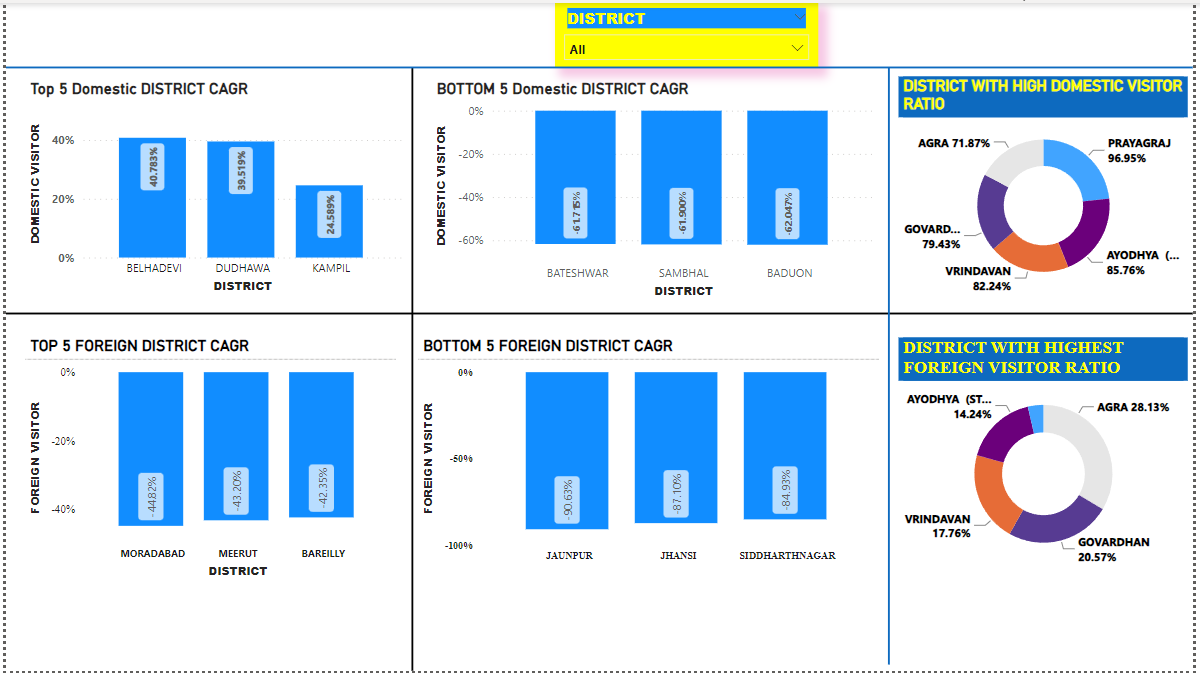

The dashboard page shown, as its layout file describes it:
{"tool":"powerbi","page":{"name":"DISTRICT WISE","canvas":[1280,720],"ordinal":1},"visuals":[{"type":"lineStackedColumnComboChart","title":"Top  5 Domestic DISTRICT CAGR ","fields":{"Category":["UP DOMESTIC TOURISMS.DISTRICT"],"Y":["METRICS.Domestic DISTRICT CAGR"]},"box":[21,82.5,411,236.2],"z":0},{"type":"lineStackedColumnComboChart","title":"TOP 5 FOREIGN DISTRICT CAGR","fields":{"Category":["UP FOREIGN TOURISMS.DISTRICT"],"Y":["METRICS.FOREIGN DISTRICT CAGR"]},"box":[21,359.2,399.6,265.3],"z":1000},{"type":"lineStackedColumnComboChart","title":"BOTTOM  5 Domestic DISTRICT CAGR ","fields":{"Category":["UP DOMESTIC TOURISMS.DISTRICT"],"Y":["METRICS.Domestic DISTRICT CAGR"]},"box":[459.5,82.5,482.2,241.1],"z":2000},{"type":"lineStackedColumnComboChart","title":"BOTTOM 5 FOREIGN DISTRICT CAGR","fields":{"Category":["UP FOREIGN TOURISMS.DISTRICT"],"Y":["METRICS.FOREIGN DISTRICT CAGR"]},"box":[444.9,359.2,496.7,265.3],"z":3000},{"type":"slicer","fields":{"Values":["DISTRICT.DISTRICT"]},"box":[591.8,0,283.9,70.1],"z":4000},{"type":"donutChart","title":"DISTRICT WITH HIGH DOMESTIC VISITOR RATIO ","fields":{"Y":["METRICS.DOMESTIC VISITOR RATIO"],"Category":["UP DOMESTIC TOURISMS.DISTRICT"]},"box":[962.7,79.3,312.3,239.5],"z":5000},{"type":"donutChart","title":"DISTRICT WITH HIGHEST FOREIGN  VISITOR  RATIO","fields":{"Category":["UP DOMESTIC TOURISMS.DISTRICT"],"Y":["METRICS.FOREIGN DISTRICT RATIO"]},"box":[962.7,360.8,312.3,252.4],"z":6000},{"type":"shape","box":[0,323.6,1279.8,22.7],"z":7000},{"type":"shape","box":[941.7,69.6,21,644],"z":8000},{"type":"shape","box":[432,69.6,12.9,650.4],"z":9000},{"type":"shape","box":[0,59.9,1279.8,19.4],"z":10000}]}

Visuals, with their boxes in screenshot pixels (x1, y1, x2, y2), scaled from the page's 1280x720 canvas onto the 1200x673 screenshot:
"Top  5 Domestic DISTRICT CAGR " lineStackedColumnComboChart: 20 77 405 298
"TOP 5 FOREIGN DISTRICT CAGR" lineStackedColumnComboChart: 20 336 394 584
"BOTTOM  5 Domestic DISTRICT CAGR " lineStackedColumnComboChart: 431 77 883 302
"BOTTOM 5 FOREIGN DISTRICT CAGR" lineStackedColumnComboChart: 417 336 883 584
slicer - DISTRICT.DISTRICT: 555 0 821 66
"DISTRICT WITH HIGH DOMESTIC VISITOR RATIO " donutChart: 903 74 1195 298
"DISTRICT WITH HIGHEST FOREIGN  VISITOR  RATIO" donutChart: 903 337 1195 573
shape: 0 302 1199 324
shape: 883 65 903 667
shape: 405 65 417 672
shape: 0 56 1199 74
